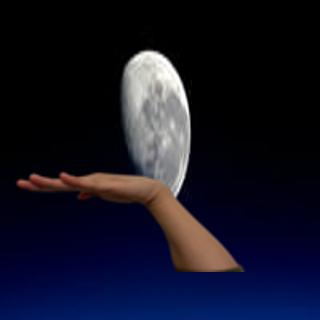WAIT: (13, 164, 159, 207)
